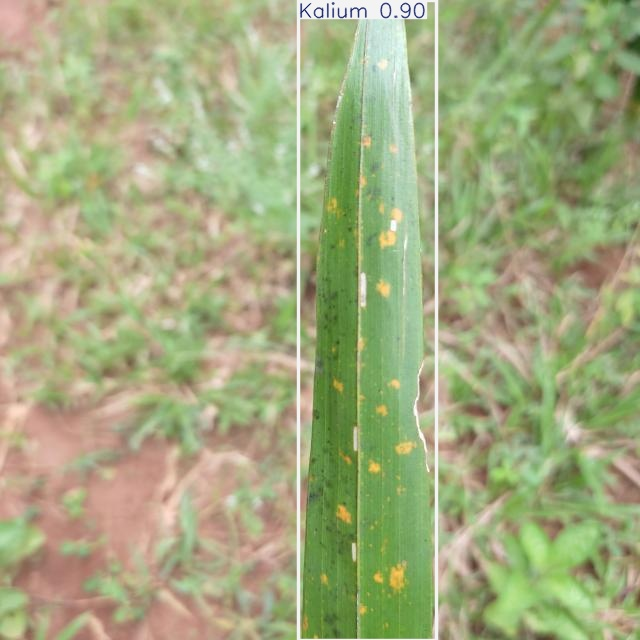Kalium: (299, 0, 437, 640)
